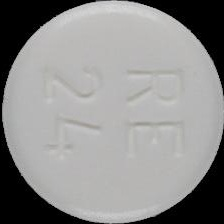54868-2180: (0, 0, 224, 224)
